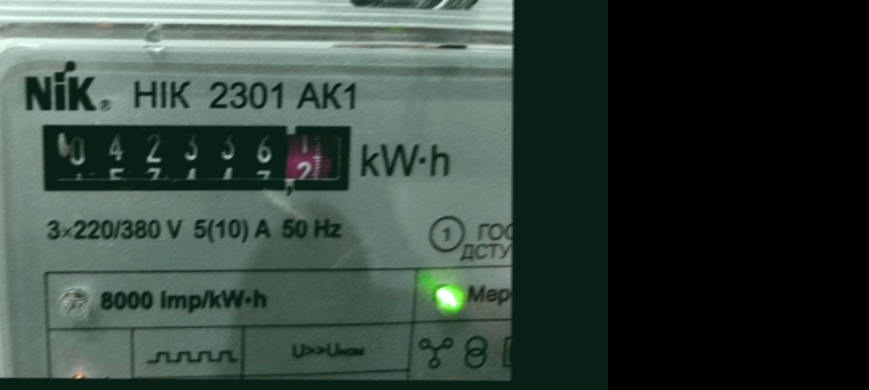0: (65, 133, 85, 167)
1: (295, 129, 308, 155)
2: (141, 130, 163, 164), (292, 160, 309, 181)
3: (178, 129, 197, 161), (217, 129, 235, 161)
4: (105, 130, 123, 162)
6: (252, 132, 273, 166)
screen: (27, 110, 363, 203)
